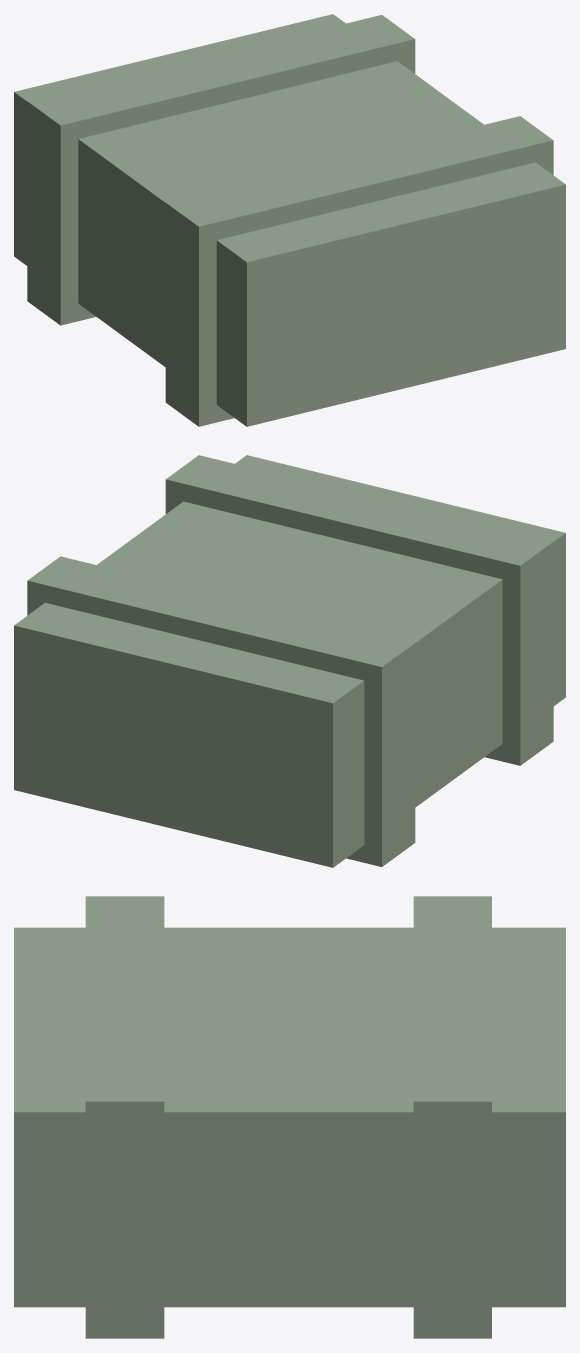
The model's file is ammo_box_05.fbx.
3 views of the same model, one above another, from view 1: azimuth 30°, elevation 25°; view 2: azimuth 150°, elevation 25°; view 3: azimuth 270°, elevation 25° (orthographic). The views are drawn at different scales.
Visible parts, largest first — view 1: ammo_box_05; view 2: ammo_box_05; view 3: ammo_box_05.
Boxes of the visible parts, bbox=[...] form: ammo_box_05: bbox=[14, 14, 565, 426]; ammo_box_05: bbox=[14, 455, 565, 867]; ammo_box_05: bbox=[14, 896, 565, 1338].
Bounding box in the file's own units: 1.08 × 0.5804 × 1.22.
